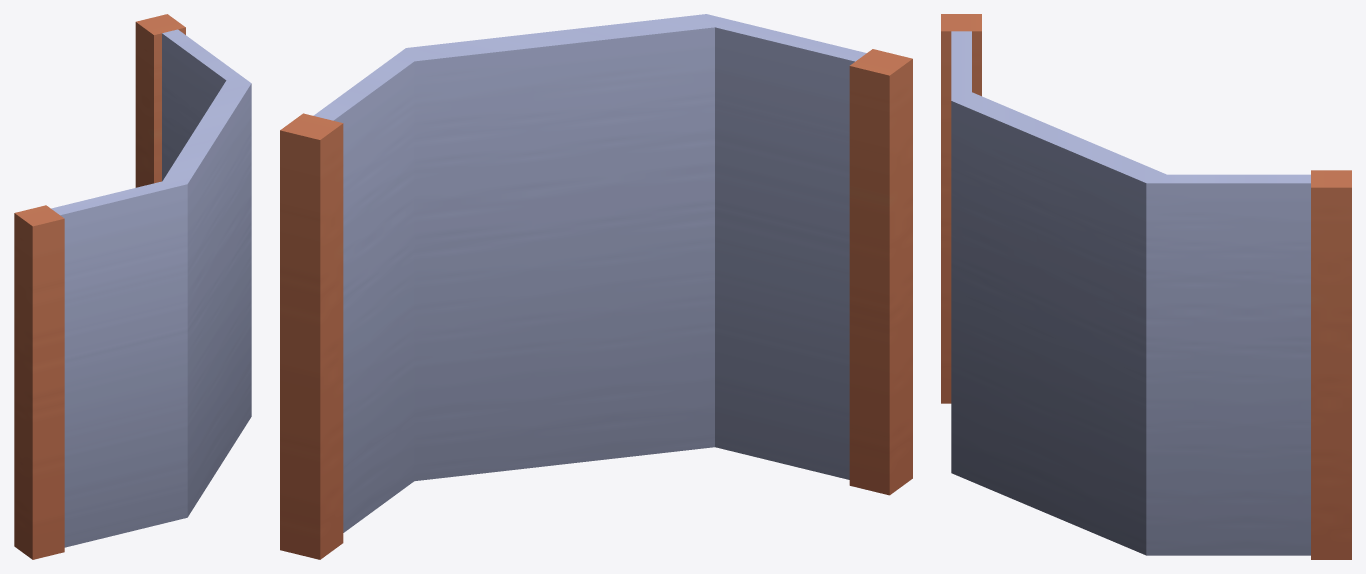
File: wallCornerDiagonal.fbx
3 views of the same model, side by side, from view 1: azimuth 30°, elevation 25°; view 2: azimuth 150°, elevation 25°; view 3: azimuth 270°, elevation 25° (orthographic). The views are drawn at different scales.
Parts seen in each view (by area): view 1: wallCornerDiagonal; view 2: wallCornerDiagonal; view 3: wallCornerDiagonal.
Boxes of the visible parts, <box> form: wallCornerDiagonal: <box>14,14,251,559</box>; wallCornerDiagonal: <box>280,14,912,559</box>; wallCornerDiagonal: <box>941,14,1351,559</box>.
Size of the model in its own units: 1 by 1 by 1.
